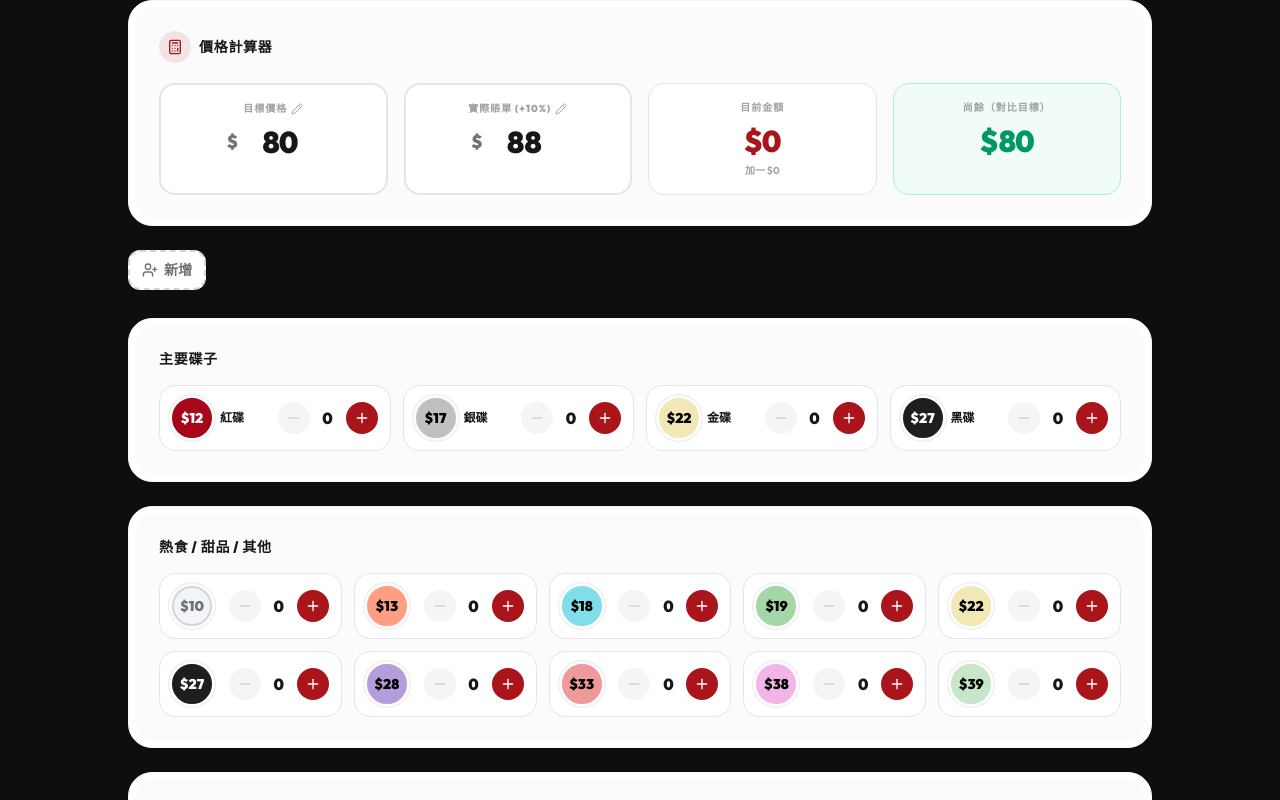
it: FareCalculator › clears all selections after confirmation
The image size is (1280, 800).
Click the button named "增加 12 數量". click: (362, 418)
box: x1=346 y1=402 x2=378 y2=434
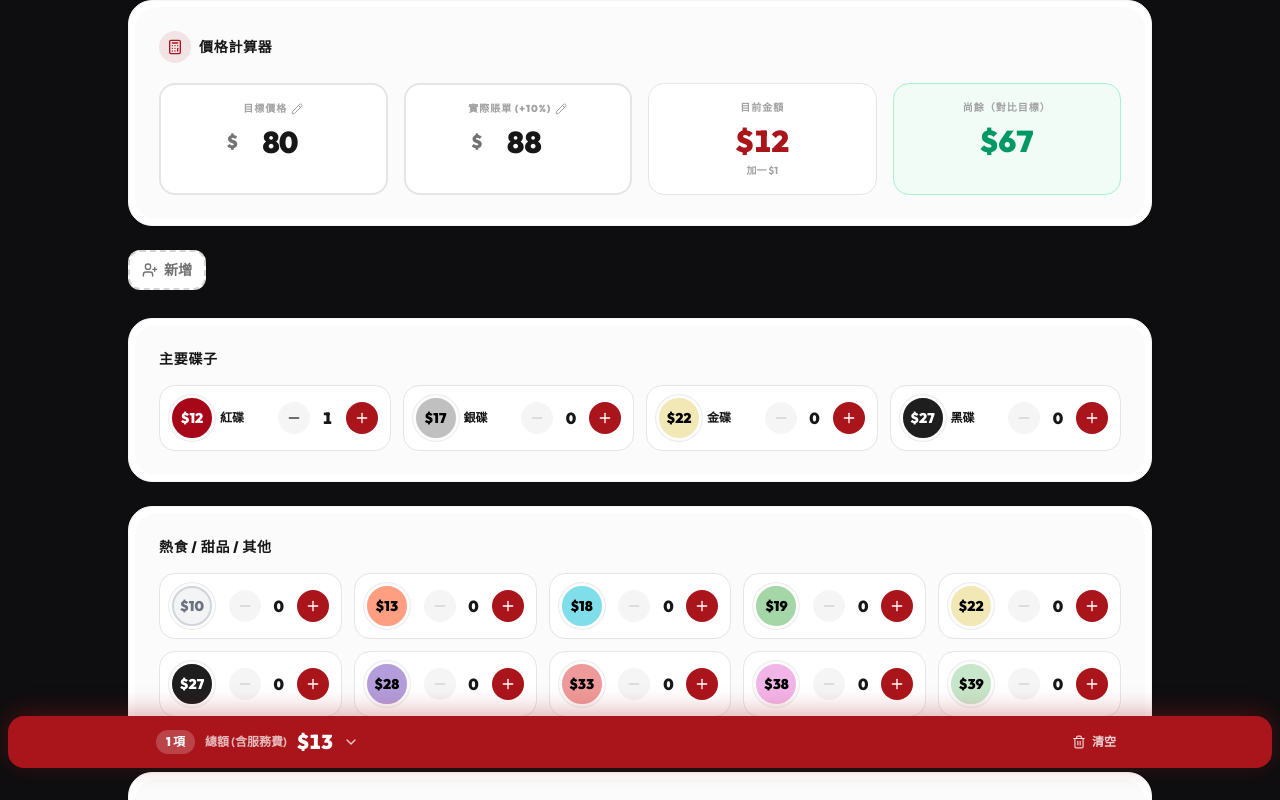
Click the button "清空". click: (1094, 742)
box: x1=1060 y1=728 x2=1128 y2=756
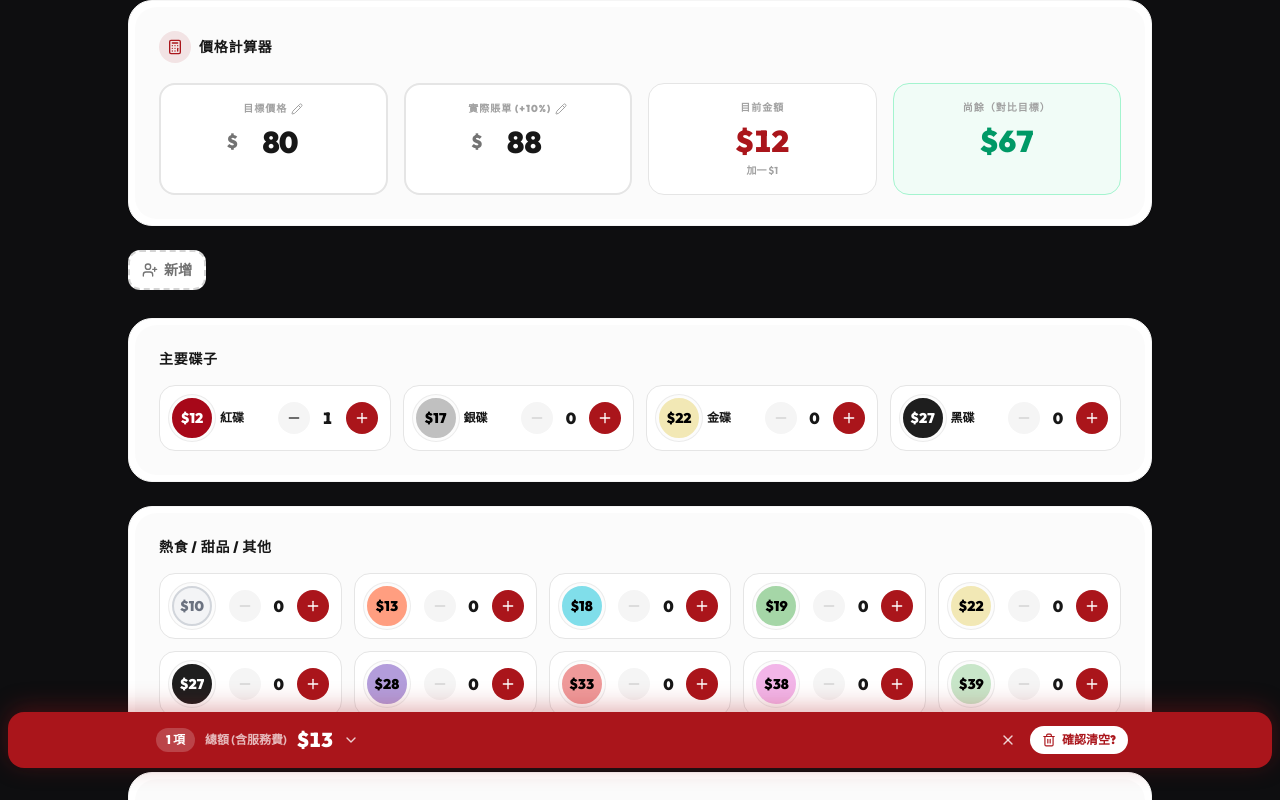
Result: the text "確認清空?" is shown at x1=1062 y1=732 x2=1116 y2=748
Click the button "確認清空?". click: (1079, 740)
box: x1=1030 y1=726 x2=1128 y2=754
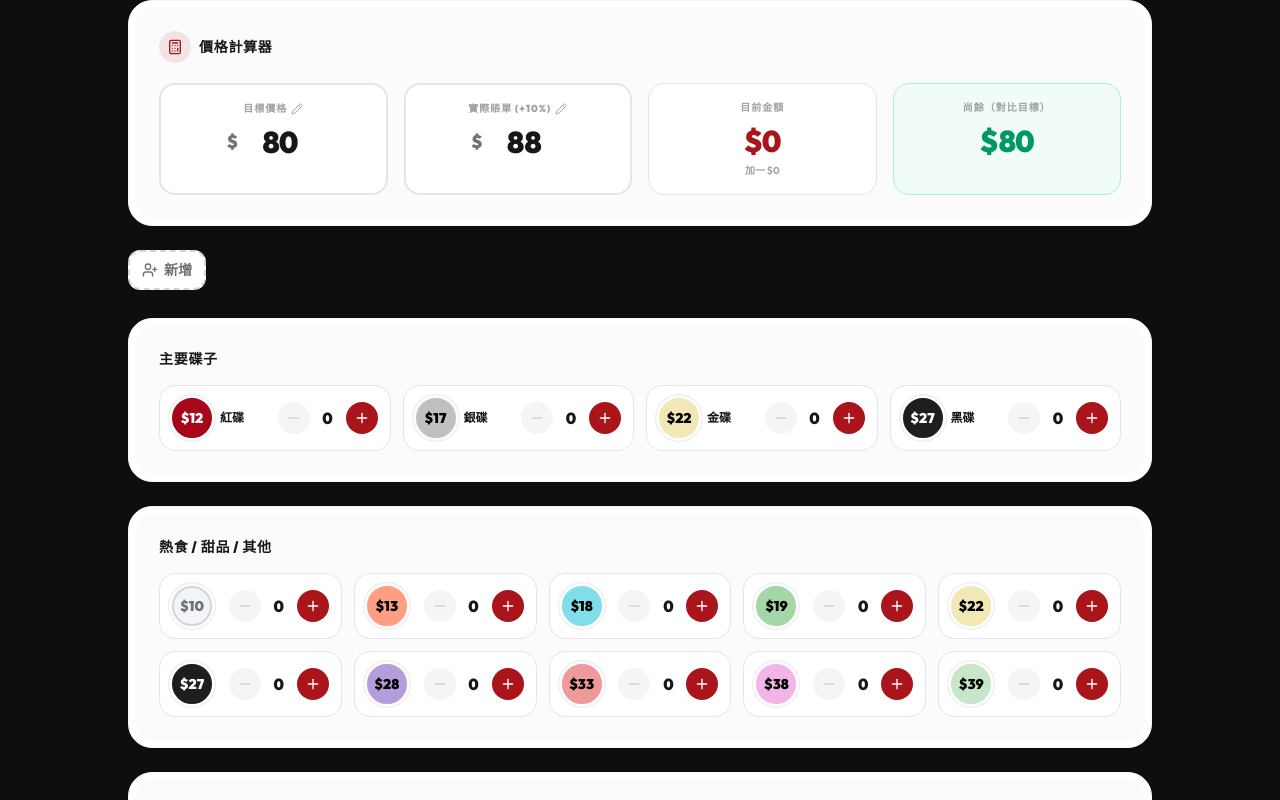
Result: the button "確認清空?" is gone
